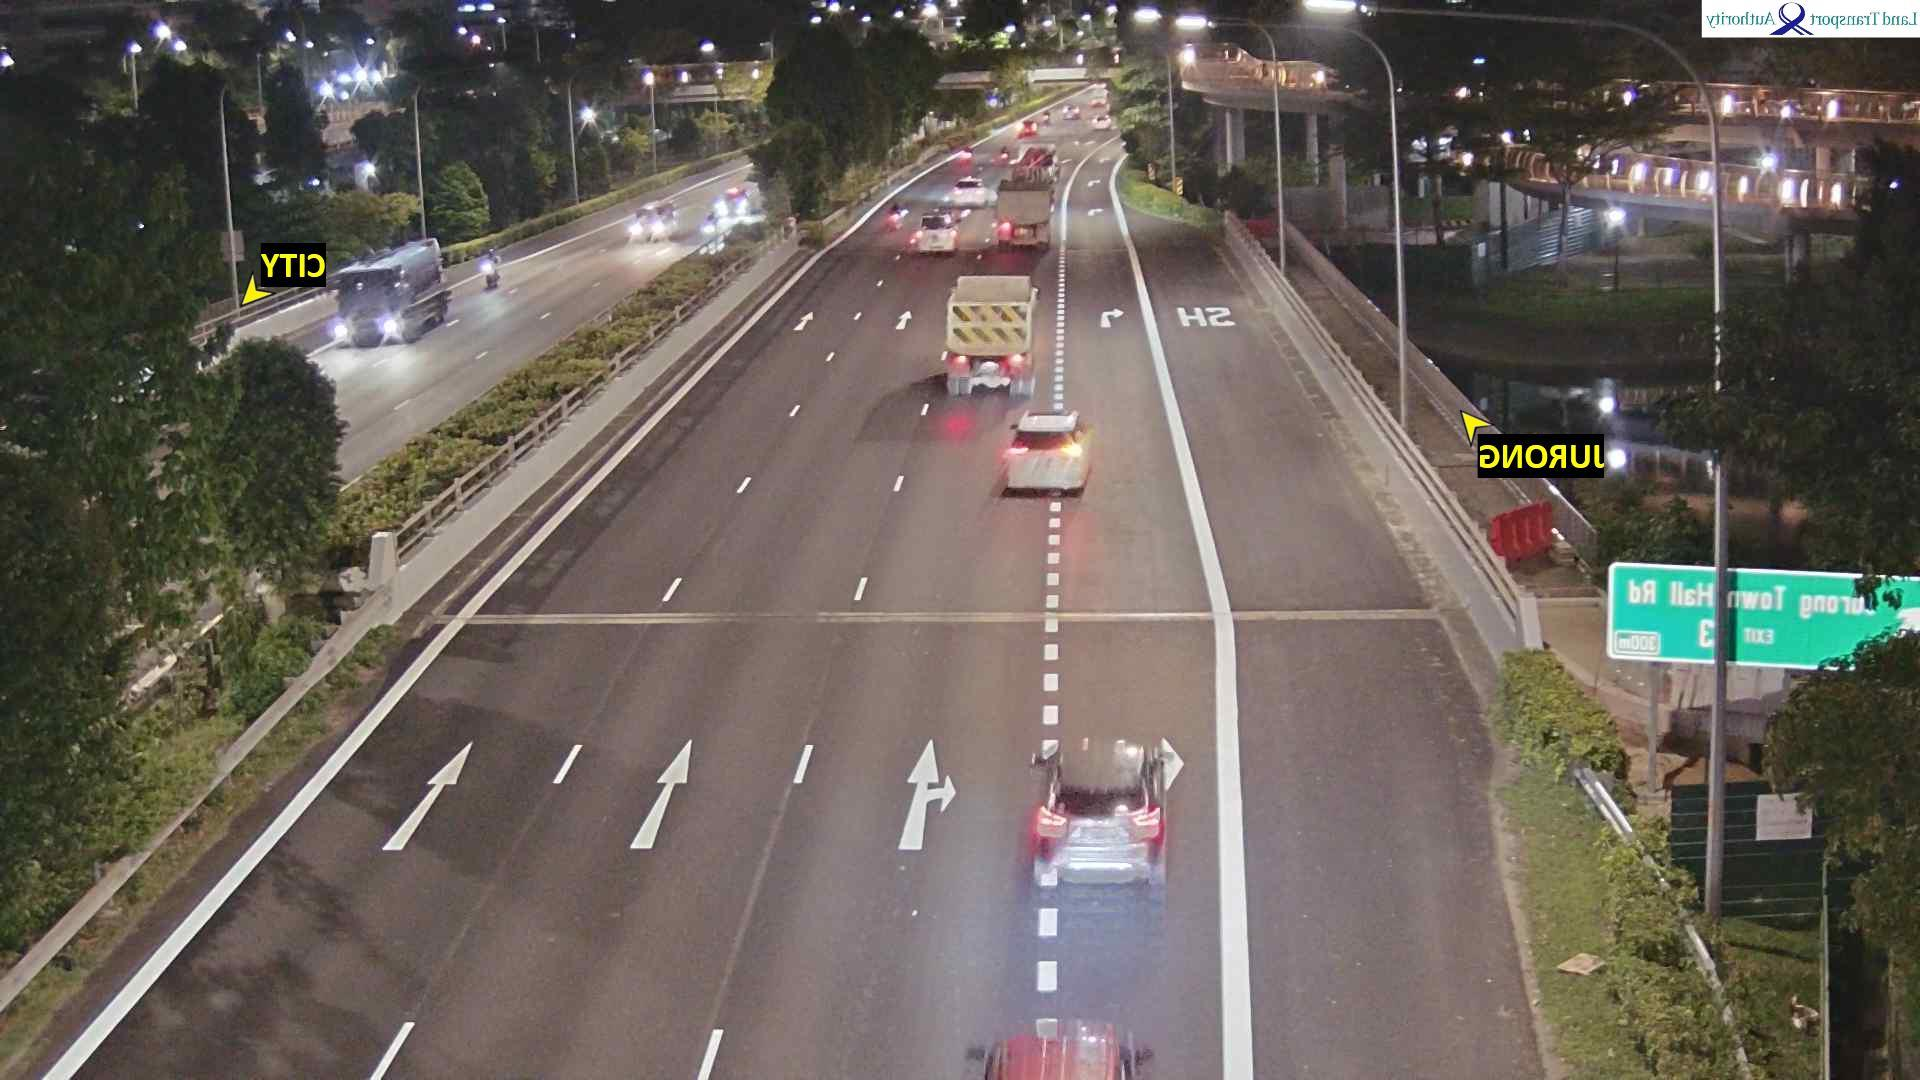incoming: (327, 269, 404, 357), (622, 204, 663, 243), (707, 189, 745, 222), (476, 261, 492, 287)
